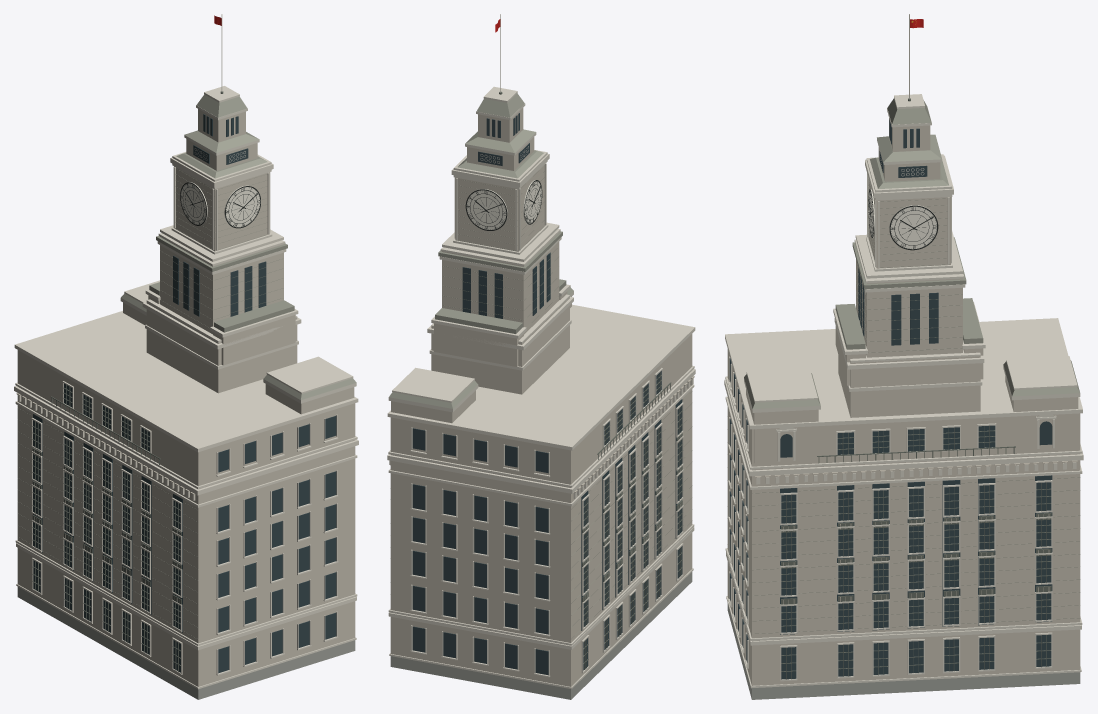
Rendered from customs-house.glb.
3 views of the same model, side by side, from view 1: azimuth 30°, elevation 25°; view 2: azimuth 150°, elevation 25°; view 3: azimuth 270°, elevation 25° (orthographic). The views are drawn at different scales.
Visible parts, largest first — view 1: Shanghai Customs House · 上海海关前楼; view 2: Shanghai Customs House · 上海海关前楼; view 3: Shanghai Customs House · 上海海关前楼.
Boxes of the visible parts, bbox=[...] form: Shanghai Customs House · 上海海关前楼: bbox=[14, 14, 358, 699]; Shanghai Customs House · 上海海关前楼: bbox=[387, 14, 695, 699]; Shanghai Customs House · 上海海关前楼: bbox=[724, 14, 1083, 699].
Bounding box in the file's own units: 28.24 × 79.2 × 39.47.
